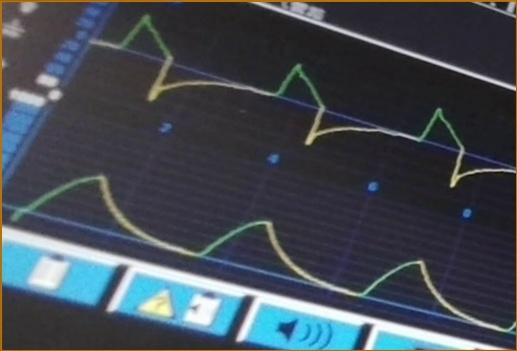Normal Flow: (91, 12, 517, 189)
Normal Volume: (7, 172, 517, 335)
